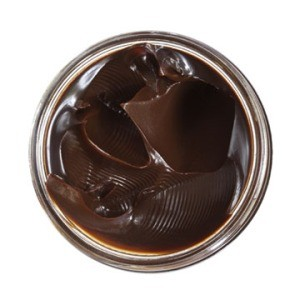yeast spread_brain food: (41, 53, 253, 247)
